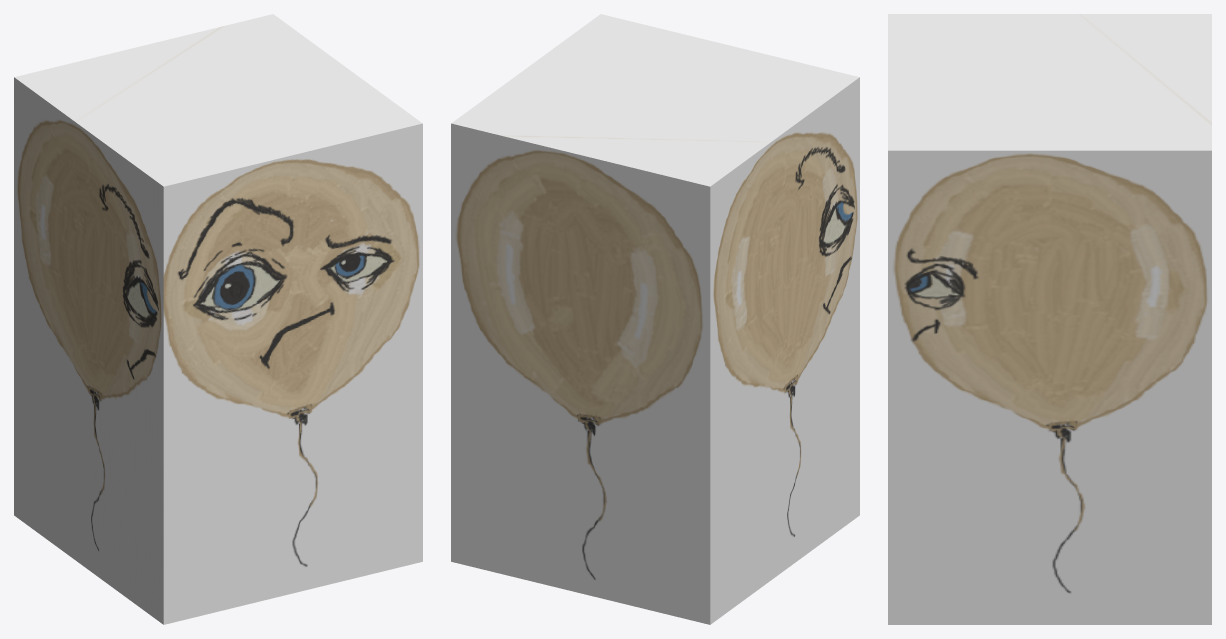
File: Enemies.fbx
3 views of the same model, side by side, from view 1: azimuth 30°, elevation 25°; view 2: azimuth 150°, elevation 25°; view 3: azimuth 270°, elevation 25° (orthographic). The views are drawn at different scales.
Visible parts, largest first — view 1: EnemyBallon -mesh; view 2: EnemyBallon -mesh; view 3: EnemyBallon -mesh.
Part boxes in pixels (bbox=[...]): EnemyBallon -mesh: bbox=[14, 14, 422, 624]; EnemyBallon -mesh: bbox=[451, 14, 859, 624]; EnemyBallon -mesh: bbox=[888, 14, 1211, 624].
Size of the model in its own units: 82.79 by 134 by 82.79.
Materials: 6 (6 with a texture image).
